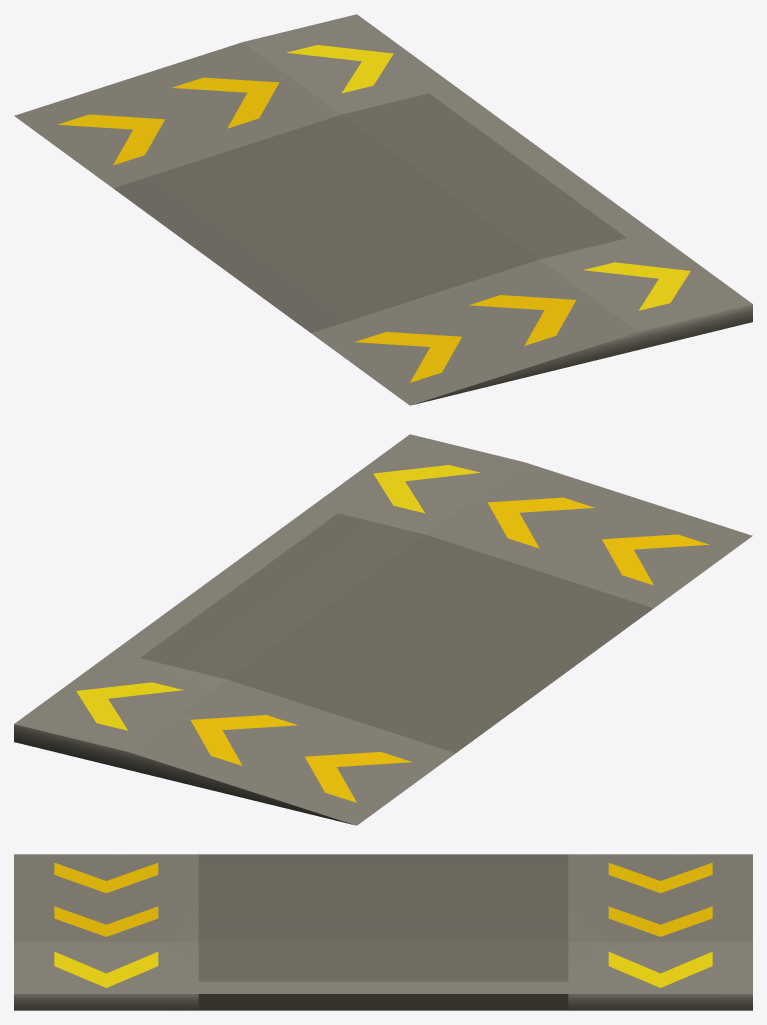
The model's file is Pavement_Ramp_1A.fbx.
3 views of the same model, one above another, from view 1: azimuth 30°, elevation 25°; view 2: azimuth 150°, elevation 25°; view 3: azimuth 270°, elevation 25° (orthographic). The views are drawn at different scales.
Visible parts, largest first — view 1: Pavement_Ramp_1A; view 2: Pavement_Ramp_1A; view 3: Pavement_Ramp_1A.
Boxes of the visible parts, x1,y1,x2,y2 form: Pavement_Ramp_1A: (14, 14, 752, 405); Pavement_Ramp_1A: (14, 434, 752, 825); Pavement_Ramp_1A: (14, 854, 752, 1010).
Bounding box in the file's own units: 6 × 0.3 × 12.
